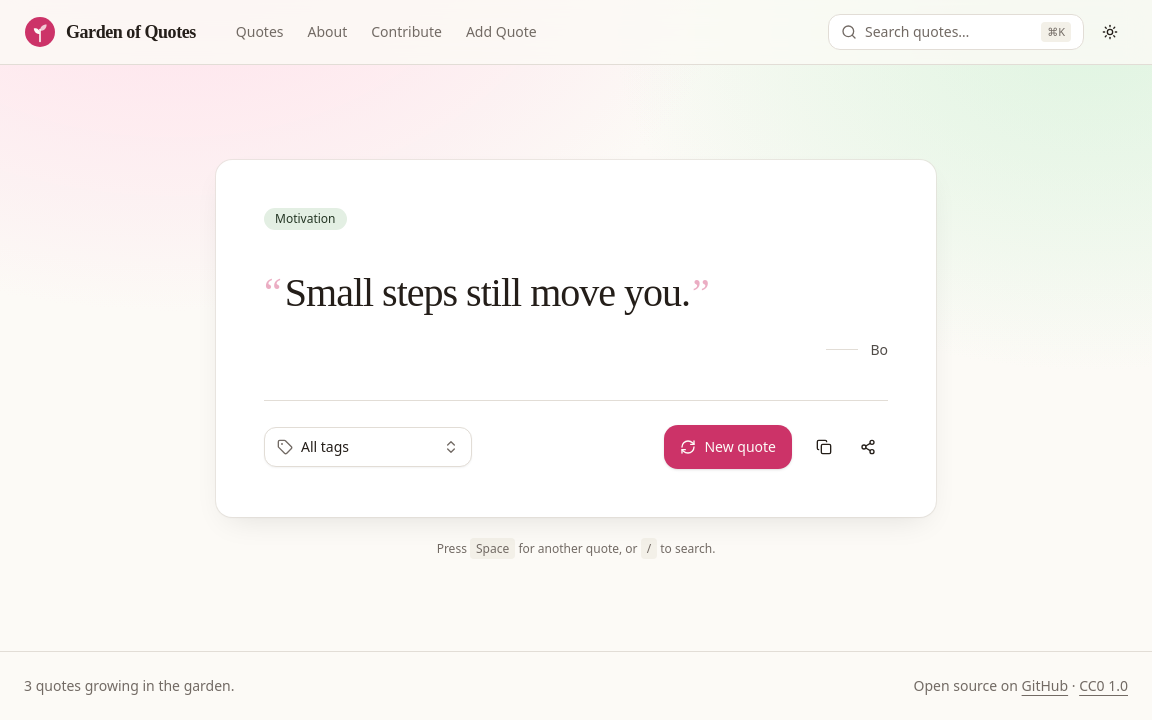
Test: App › restricts quotes to the selected tag
Click the dropdown named "filter by tag".
click(368, 446)  # box [264,426,472,466]
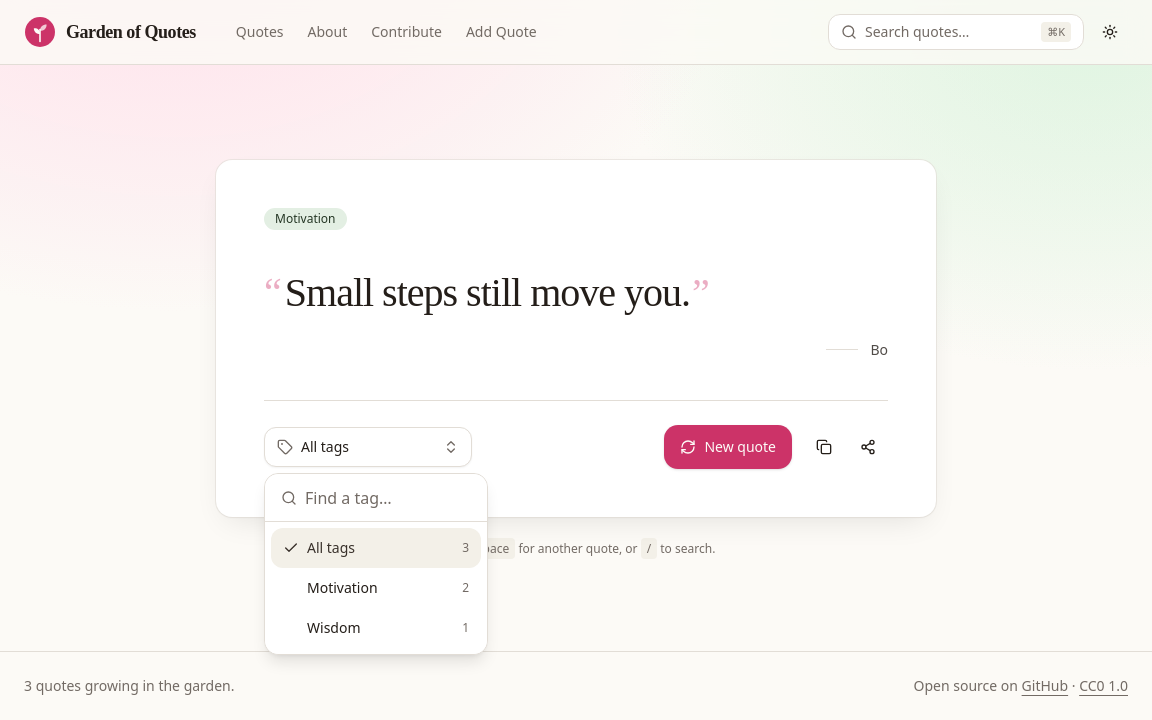
Click the option "Wisdom 1".
click(334, 628)  # box [307,618,469,637]
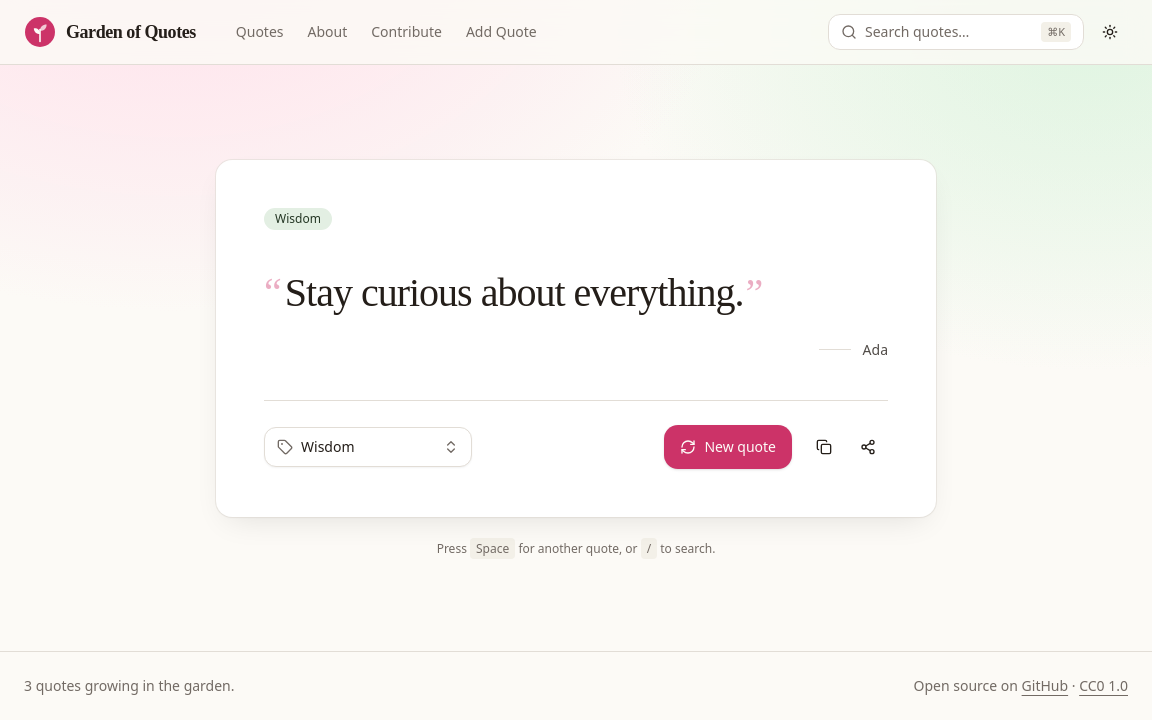
Check: the element showing "“Stay curious about everything.” Ada" is shown, box [264,270,888,360]
